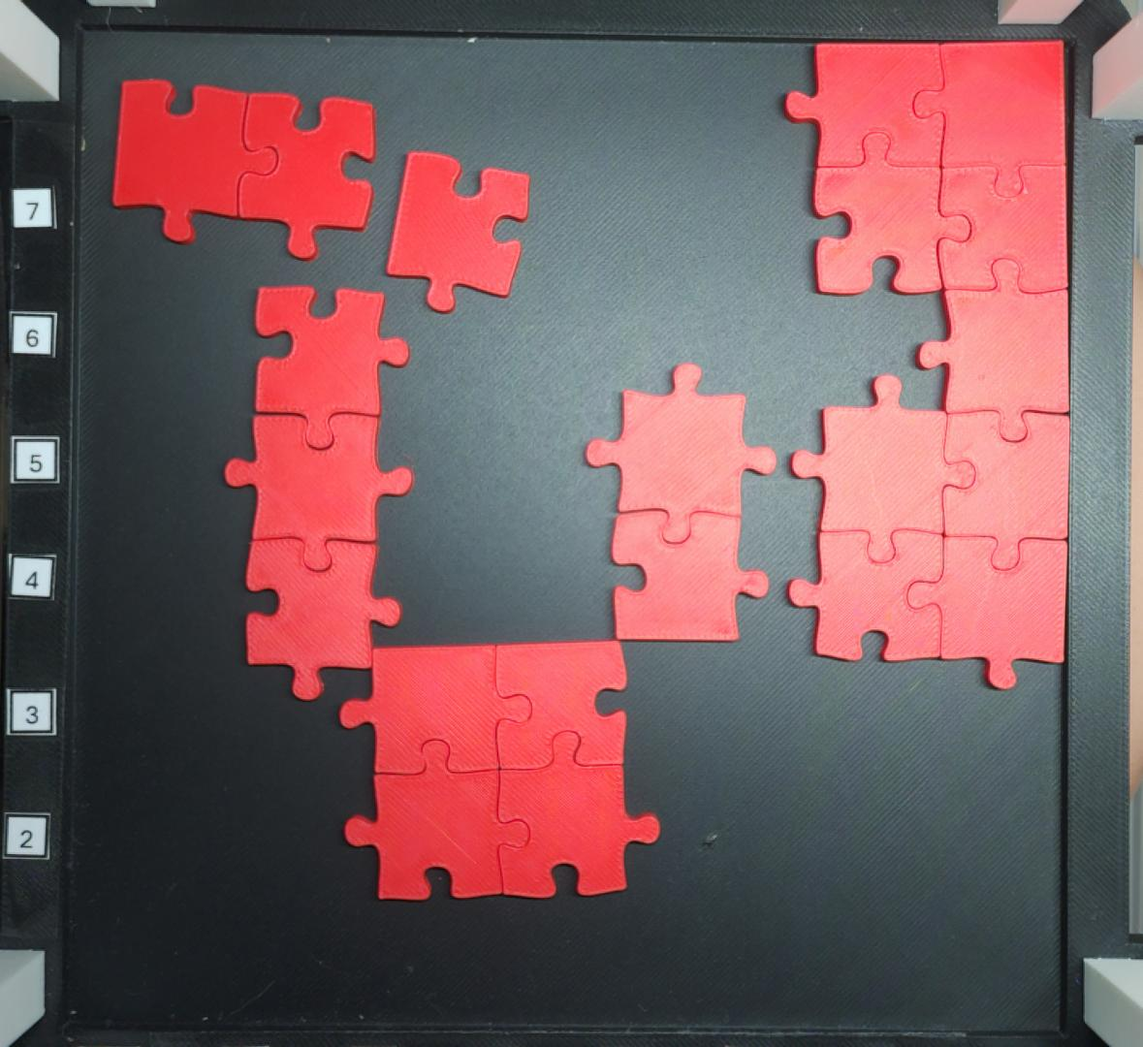p_1: (386, 152, 530, 314)
p_2: (585, 363, 777, 646), (111, 78, 379, 263)
p_3: (225, 285, 414, 700)
p_4: (340, 639, 661, 901)
p_m: (784, 38, 1070, 689)
